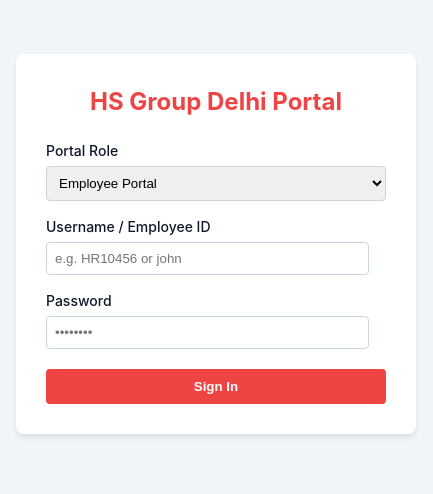
Test: Login Component Unit Tests › displays an error message when authentication fails
Type "wronguser" into the field with placeholder "e.g. HR10456 or john" at (208, 258), box [46,242,369,275]
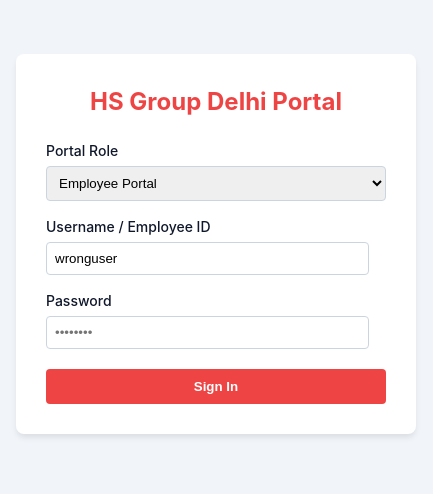
Type "wrongpass" into the password field with placeholder "••••••••" at (208, 332), box [46,316,369,349]
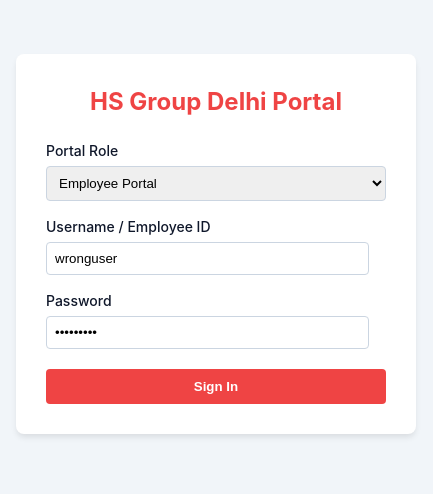
Click the button "Sign In" at (216, 386), box [46,369,386,404]
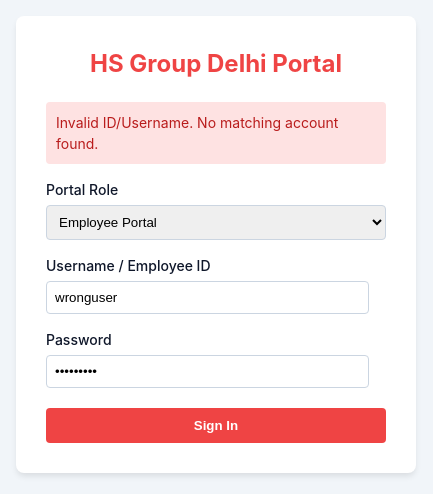
Expected: the text "Invalid ID/Username. No matching account found." is shown, [46,102,386,164]
